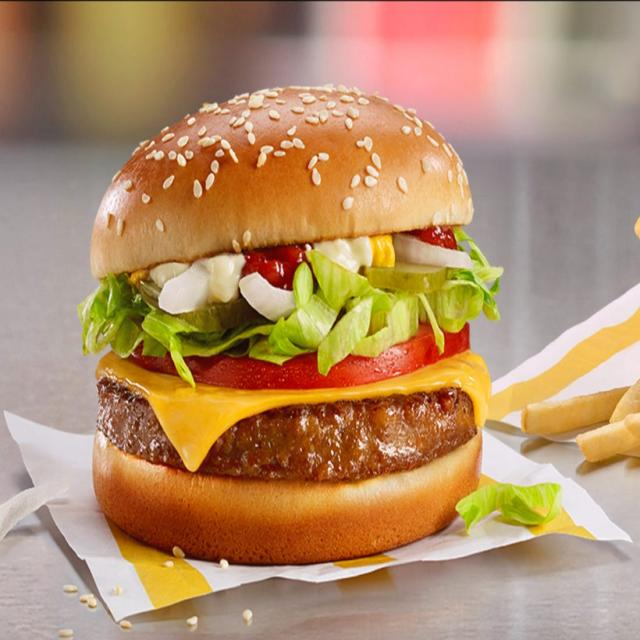burger: (77, 75, 507, 562)
